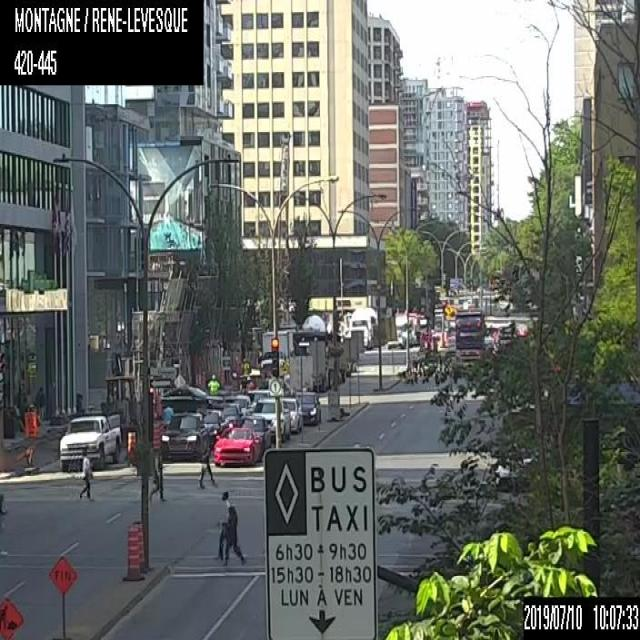construction: (50, 553, 77, 639), (126, 519, 142, 580), (0, 594, 22, 638), (136, 519, 144, 571), (24, 410, 36, 438), (151, 422, 161, 448), (127, 428, 137, 450)
pedestrian: (224, 505, 246, 565), (196, 433, 219, 488), (78, 445, 96, 500), (148, 454, 166, 506), (216, 491, 230, 557), (34, 384, 44, 420), (206, 370, 219, 394), (240, 358, 248, 373)
vehicle: (58, 410, 122, 470), (160, 412, 208, 458), (212, 425, 260, 465), (251, 397, 288, 439), (453, 309, 486, 349), (346, 304, 376, 348), (160, 385, 210, 409), (291, 387, 321, 423), (242, 414, 270, 452), (199, 408, 229, 443), (492, 319, 518, 351), (281, 397, 302, 433), (454, 348, 482, 374), (223, 394, 251, 418), (222, 401, 242, 427)
